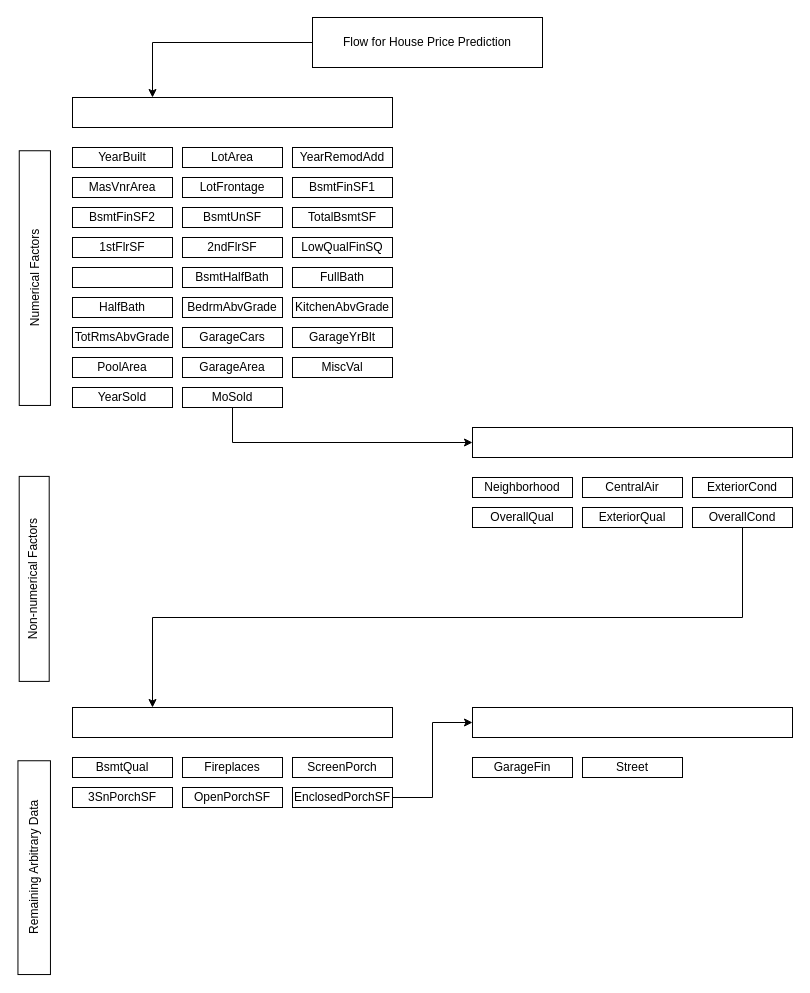
This 810x993 diagram has some shape labels left out. The shapes that lost their labels are listed below. From the top down, each one's centre as x and y in pixels, then its label:
the point at 232,112: Main Numerical Categories
the point at 122,277: BsmtFullBath
the point at 632,442: Main Non-numerical Categories
the point at 232,722: Remaining Numerical Categories
the point at 632,722: Remaining Non-numerical Categories
